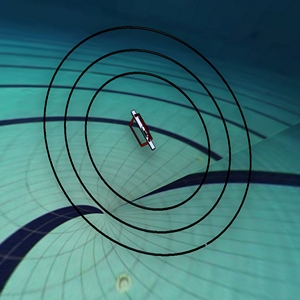circle: (29, 10, 271, 264)
submarine: (117, 101, 164, 154)
